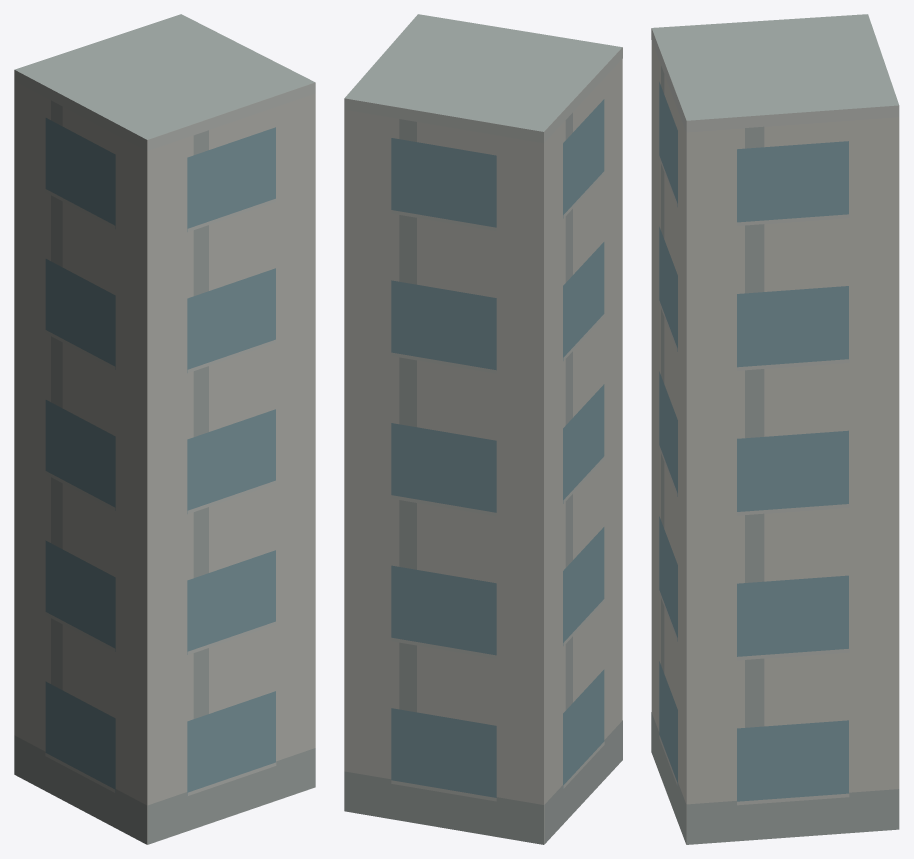
The model's file is survey-upis-33041471.glb.
The picture shows the model from 3 angles, left to right: view 1: azimuth 30°, elevation 25°; view 2: azimuth 150°, elevation 25°; view 3: azimuth 270°, elevation 25°; orthographic projection. The views are drawn at different scales.
Parts seen in each view (by area): view 1: survey-upis-33041471.tmp; view 2: survey-upis-33041471.tmp; view 3: survey-upis-33041471.tmp.
Boxes of the visible parts, x1,y1,x2,y2 form: survey-upis-33041471.tmp: (14,14,315,844); survey-upis-33041471.tmp: (344,14,622,844); survey-upis-33041471.tmp: (651,14,899,844).
Size of the model in its own units: 4.83 by 15.25 by 4.74.
